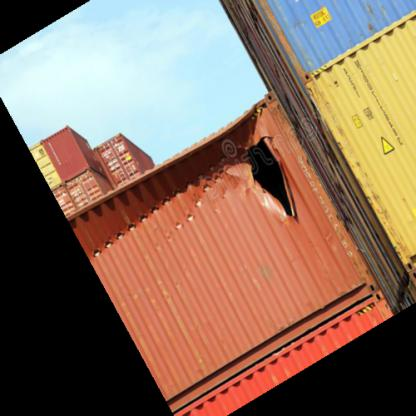Damage: (150, 117, 252, 196), (232, 118, 302, 228)
